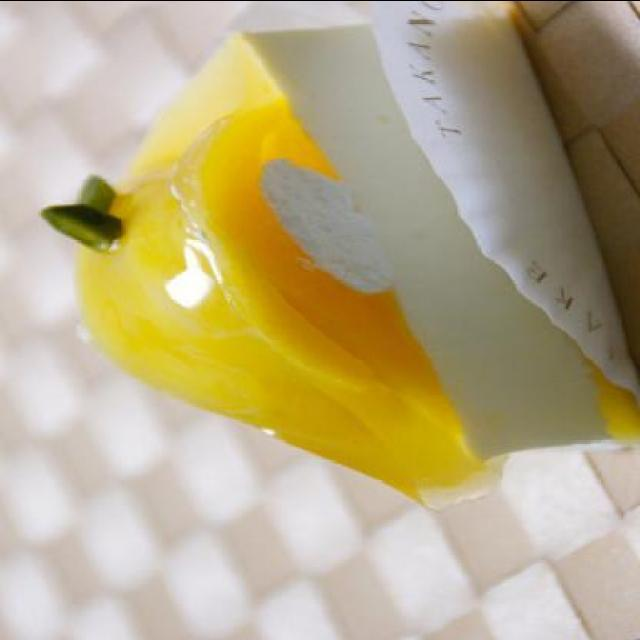Rare cheese cake: (40, 0, 638, 508)
